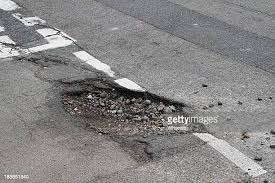potholes: (56, 79, 154, 138)
